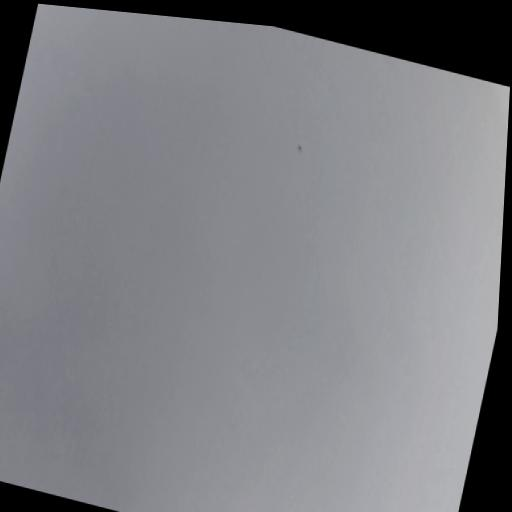drones: (294, 142, 305, 155)
